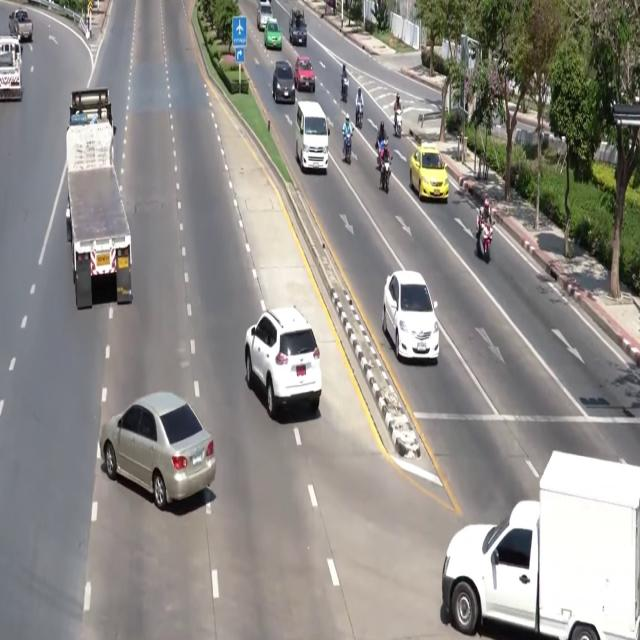car: (99, 392, 215, 510), (245, 307, 321, 418), (382, 271, 439, 363), (410, 143, 449, 201), (272, 61, 295, 103), (294, 56, 315, 92), (289, 8, 307, 47), (264, 19, 281, 50), (257, 1, 272, 31)
scooty: (477, 221, 492, 263), (375, 139, 388, 169), (381, 156, 390, 193), (344, 133, 351, 164), (395, 109, 402, 137), (355, 104, 363, 128), (341, 77, 348, 102)
truck: (442, 451, 639, 639), (66, 88, 131, 309), (0, 36, 22, 100), (9, 9, 33, 42)
